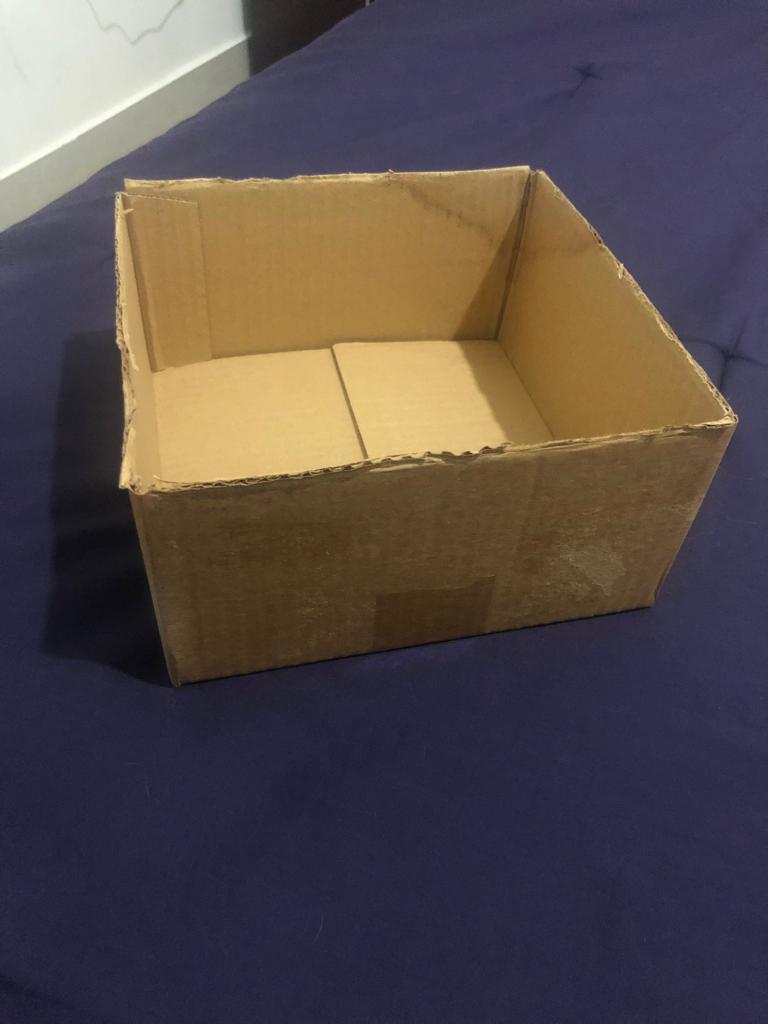CBox: (108, 164, 738, 674)
